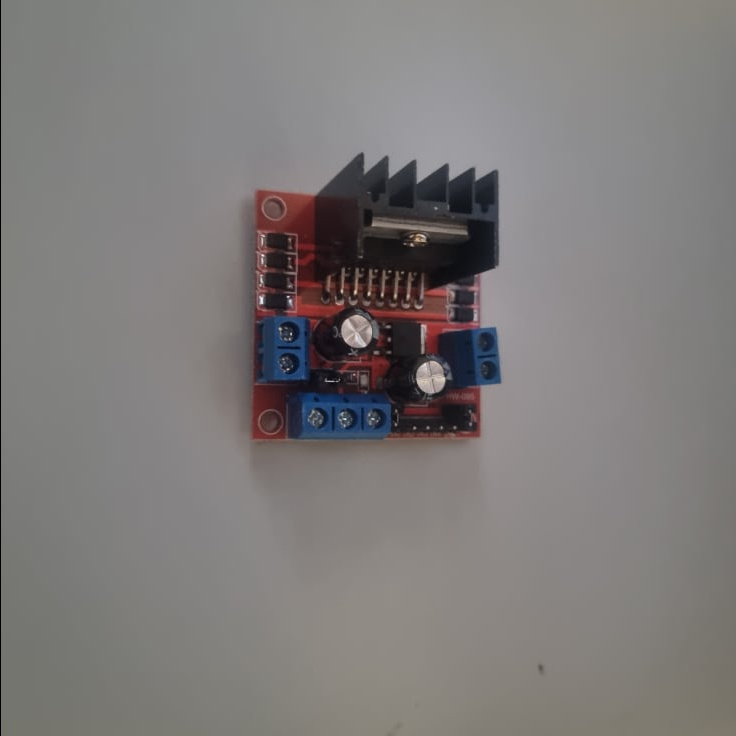MOTOR: (245, 150, 499, 444)
